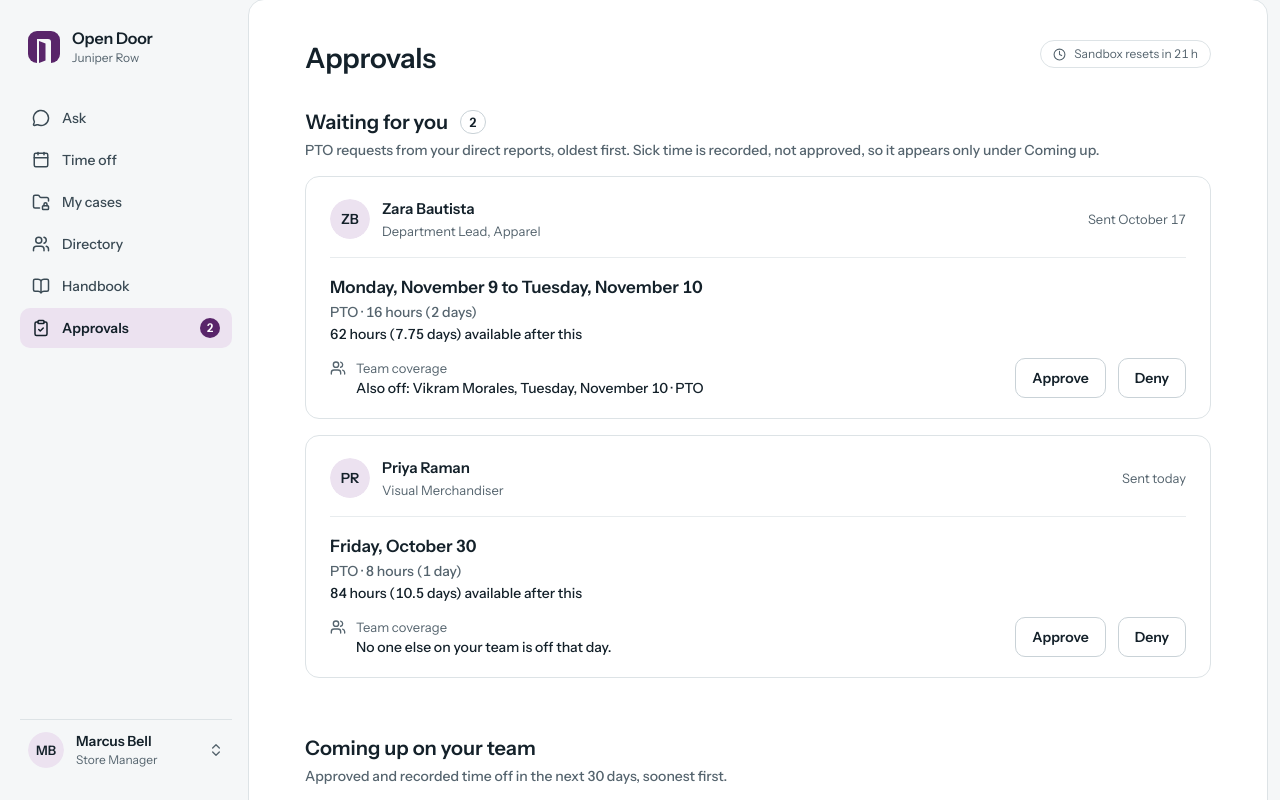
Test case: Approvals: the dialogs › goes back with Escape, returning focus to the button that opened it
(page scrolled)
Expected: the heading "Waiting for you 2" is shown, [305,110,486,134]
Click the button "Deny" below "Sent today".
click(1152, 637)  # box [1118,617,1186,657]
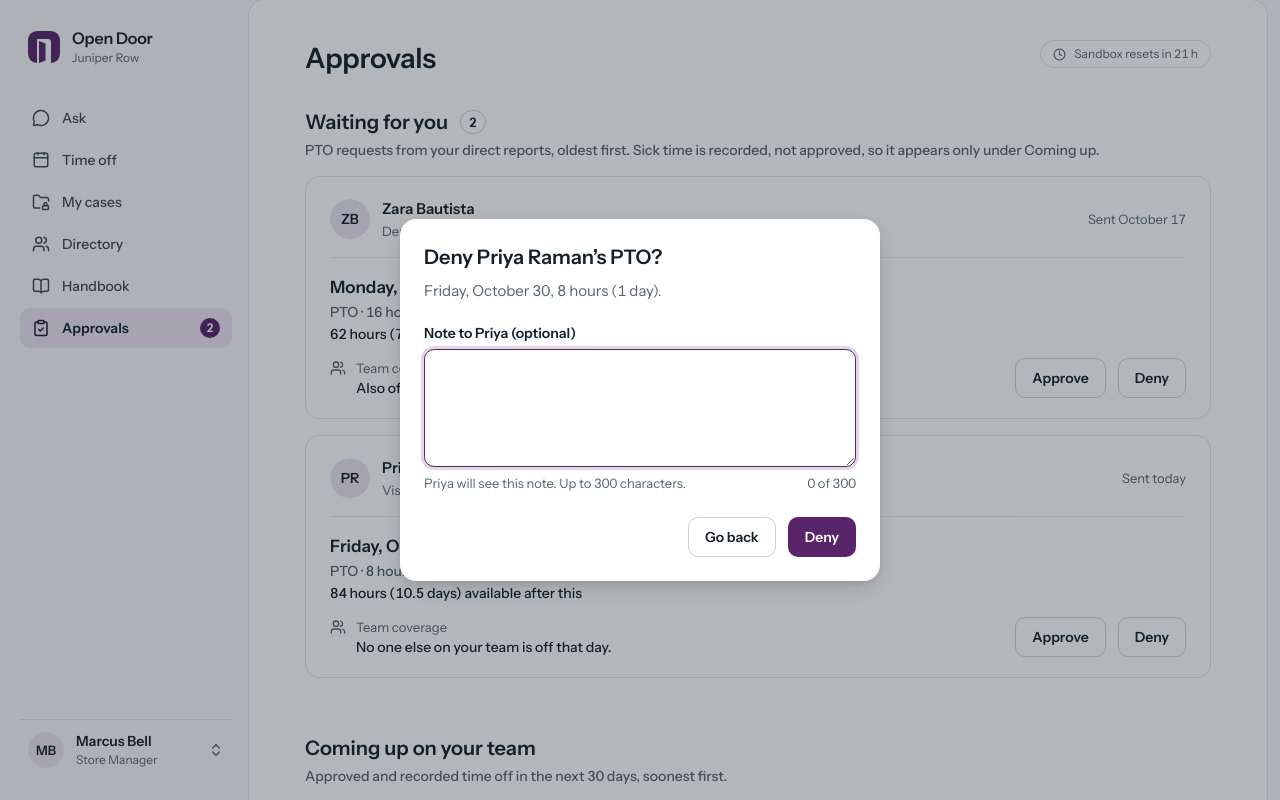
Expected: the dialog is shown, [400,219,880,581]
Press Escape
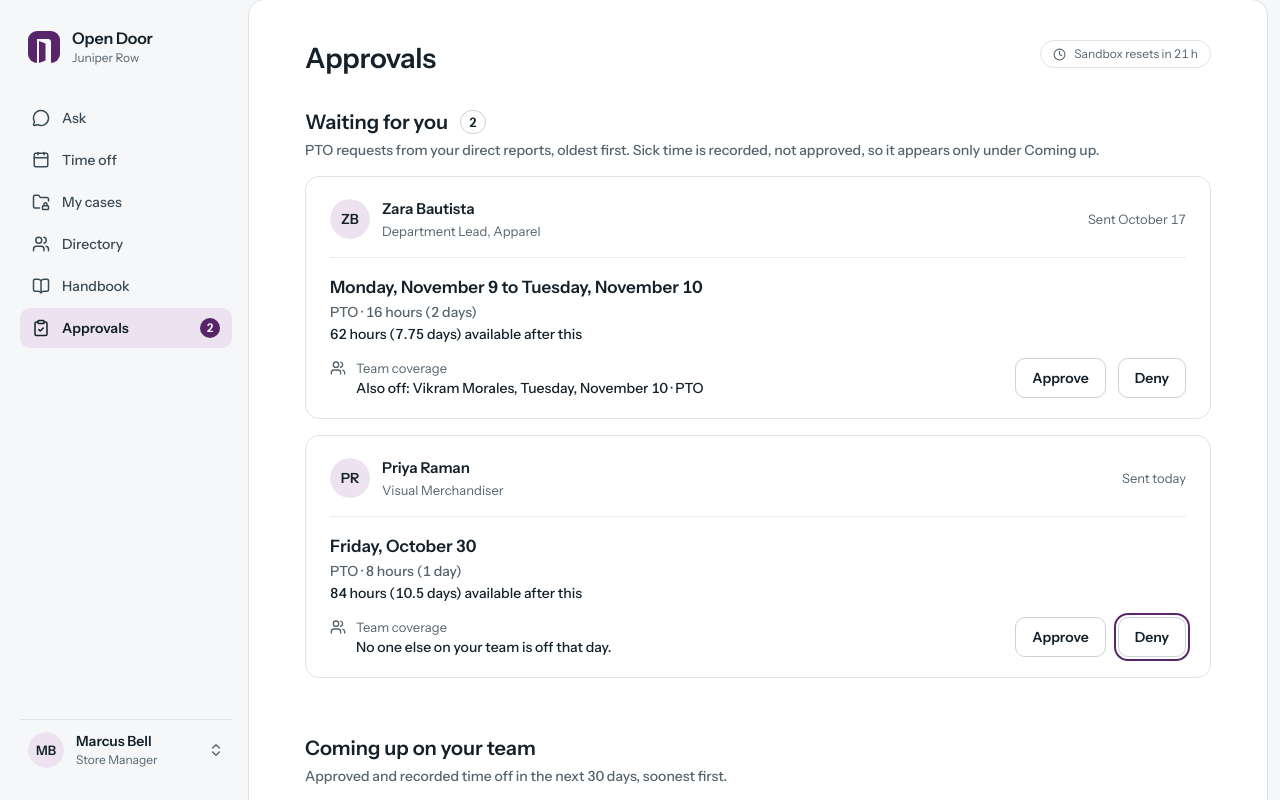
Expected: the dialog is gone
